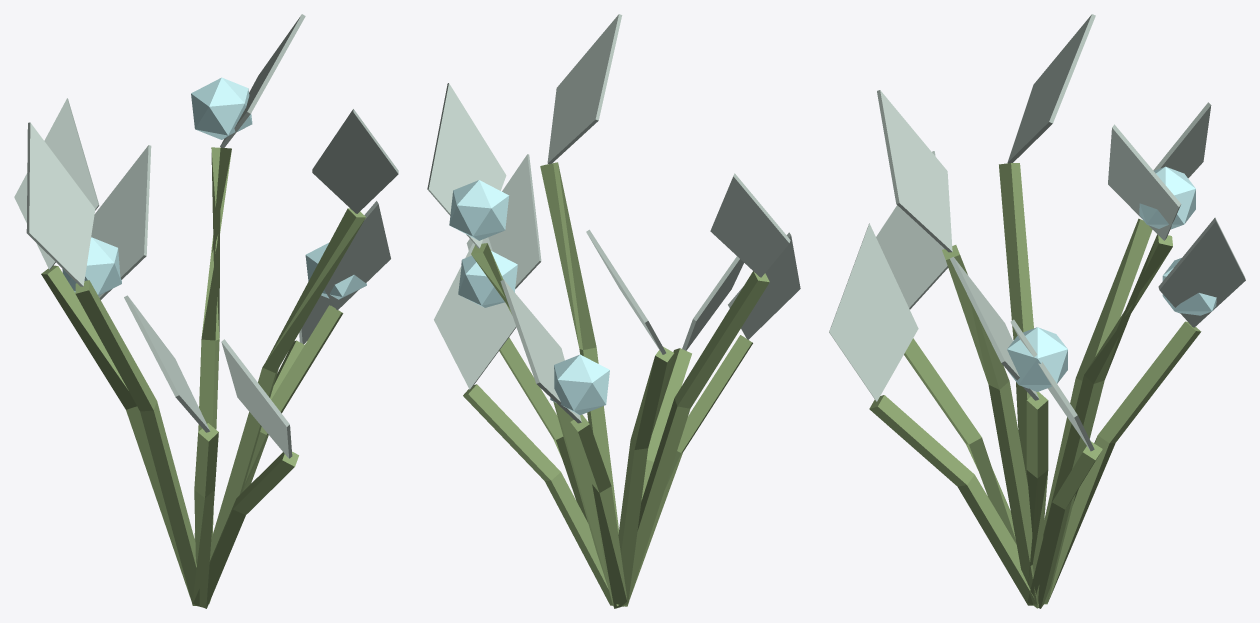
File: herb_node.glb
The picture shows the model from 3 angles, left to right: view 1: azimuth 30°, elevation 25°; view 2: azimuth 150°, elevation 25°; view 3: azimuth 270°, elevation 25°; orthographic projection. The views are drawn at different scales.
Visible parts, largest first — view 1: herb_node; view 2: herb_node; view 3: herb_node.
Boxes of the visible parts, bbox=[...] form: herb_node: bbox=[14, 14, 398, 608]; herb_node: bbox=[427, 14, 800, 608]; herb_node: bbox=[829, 14, 1245, 608].
Bounding box in the file's own units: 0.4636 × 0.6821 × 0.4653.
